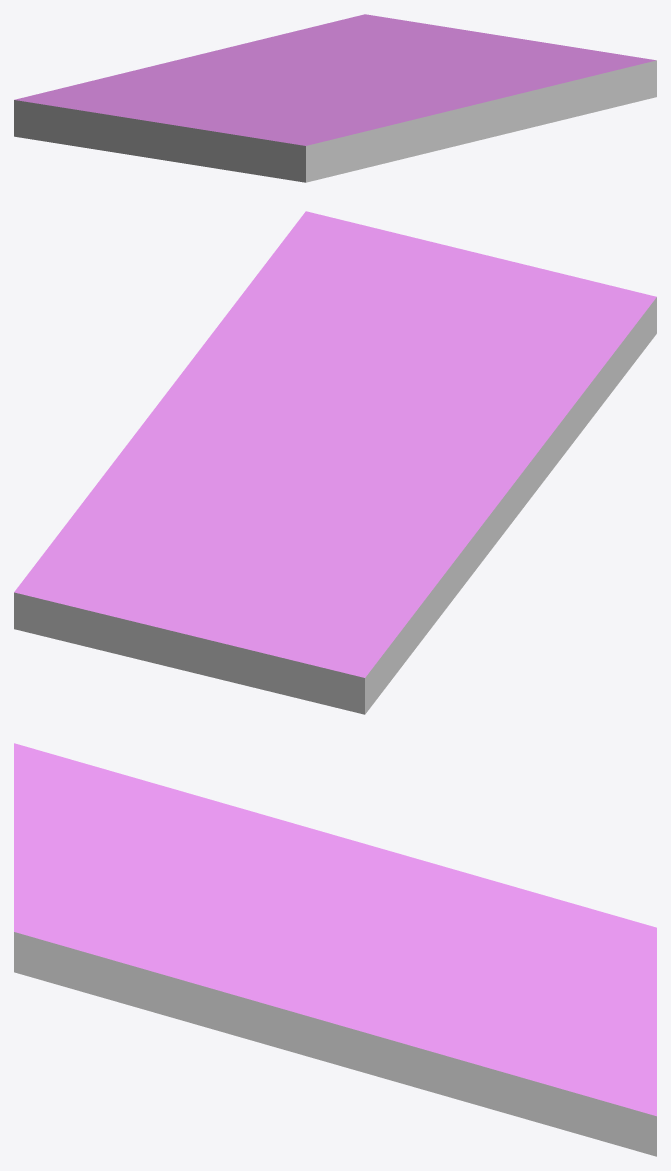
File: AgilitySlope.fbx
3 renders of one model, top to bottom at view 1: azimuth 30°, elevation 25°; view 2: azimuth 150°, elevation 25°; view 3: azimuth 270°, elevation 25°, orthographic. The views are drawn at different scales.
Visible parts, largest first — view 1: SlopeAgility; view 2: SlopeAgility; view 3: SlopeAgility.
Part boxes in pixels (x1,y1,x2,y2): SlopeAgility: (14, 14, 656, 182); SlopeAgility: (14, 211, 656, 714); SlopeAgility: (14, 743, 656, 1156).
Size of the model in its own units: 2.5 by 1.39 by 3.6.
